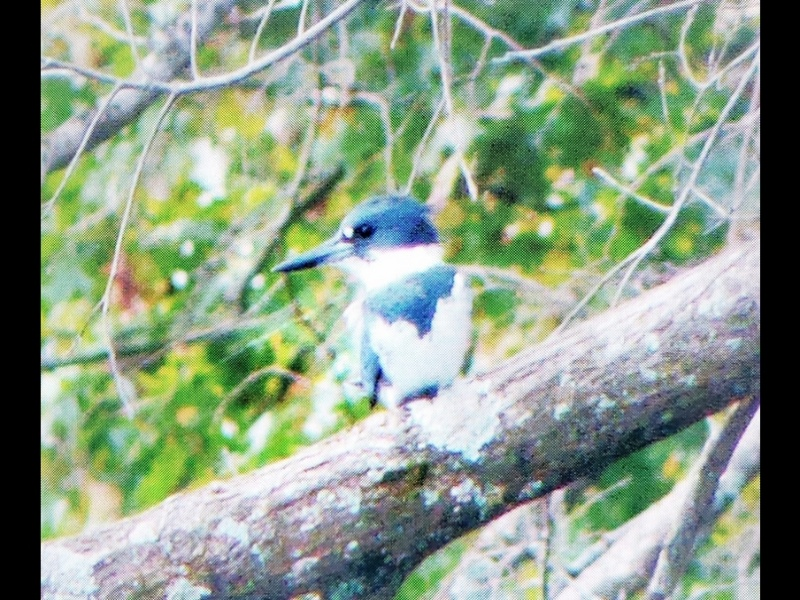kingfisher: (270, 192, 472, 415)
